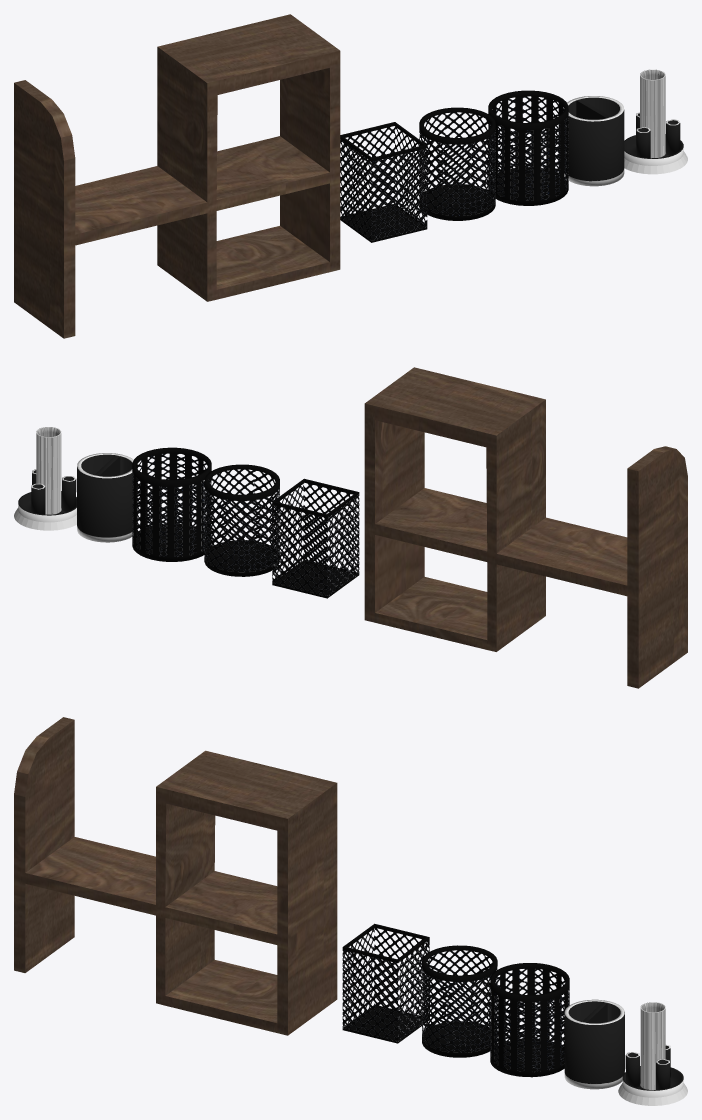
Rendered from Holder_and_shelf.obj.
3 renders of one model, top to bottom at view 1: azimuth 30°, elevation 25°; view 2: azimuth 150°, elevation 25°; view 3: azimuth 330°, elevation 25°, orthographic.
Parts seen in each view (by area): view 1: Shelf_Куб.032, Holder3_Цилиндр.041, Holder1_Куб.029, Holder2_Цилиндр.043, Holder4_Цилиндр.042, Holder5_Цилиндр.044; view 2: Shelf_Куб.032, Holder1_Куб.029, Holder3_Цилиндр.041, Holder2_Цилиндр.043, Holder4_Цилиндр.042, Holder5_Цилиндр.044; view 3: Shelf_Куб.032, Holder3_Цилиндр.041, Holder1_Куб.029, Holder2_Цилиндр.043, Holder4_Цилиндр.042, Holder5_Цилиндр.044.
Part boxes in pixels (bbox=[...]): Shelf_Куб.032: bbox=[14, 14, 340, 338]; Holder3_Цилиндр.041: bbox=[488, 90, 568, 205]; Holder1_Куб.029: bbox=[340, 122, 427, 242]; Holder2_Цилиндр.043: bbox=[419, 107, 495, 220]; Holder4_Цилиндр.042: bbox=[563, 96, 624, 186]; Holder5_Цилиндр.044: bbox=[624, 69, 687, 174]; Shelf_Куб.032: bbox=[364, 367, 687, 688]; Holder1_Куб.029: bbox=[272, 478, 359, 598]; Holder3_Цилиндр.041: bbox=[132, 447, 211, 561]; Holder2_Цилиндр.043: bbox=[204, 464, 279, 576]; Holder4_Цилиндр.042: bbox=[77, 453, 133, 542]; Holder5_Цилиндр.044: bbox=[14, 427, 76, 530]; Shelf_Куб.032: bbox=[14, 717, 337, 1035]; Holder3_Цилиндр.041: bbox=[490, 963, 569, 1077]; Holder1_Куб.029: bbox=[342, 923, 429, 1043]; Holder2_Цилиндр.043: bbox=[422, 945, 497, 1057]; Holder4_Цилиндр.042: bbox=[564, 999, 624, 1089]; Holder5_Цилиндр.044: bbox=[618, 1002, 687, 1105].
Size of the model in its own units: 16.92 by 5.5 by 2.26.
